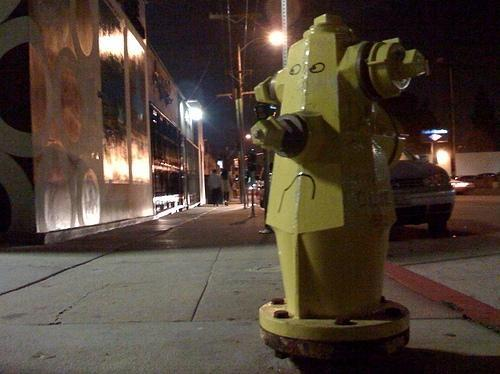car: (390, 160, 456, 238), (455, 174, 492, 187), (452, 178, 477, 194)
